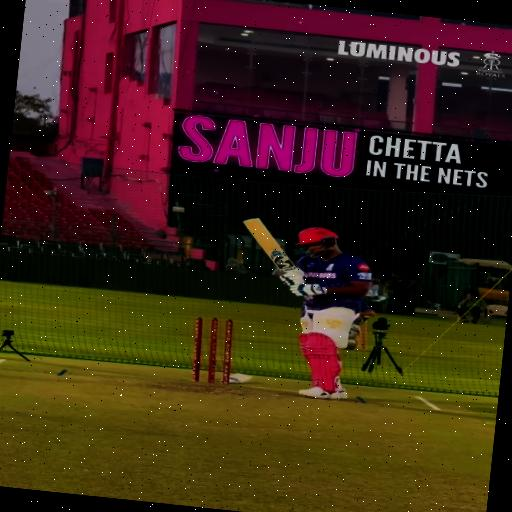Cricket bat: (243, 218, 296, 273)
